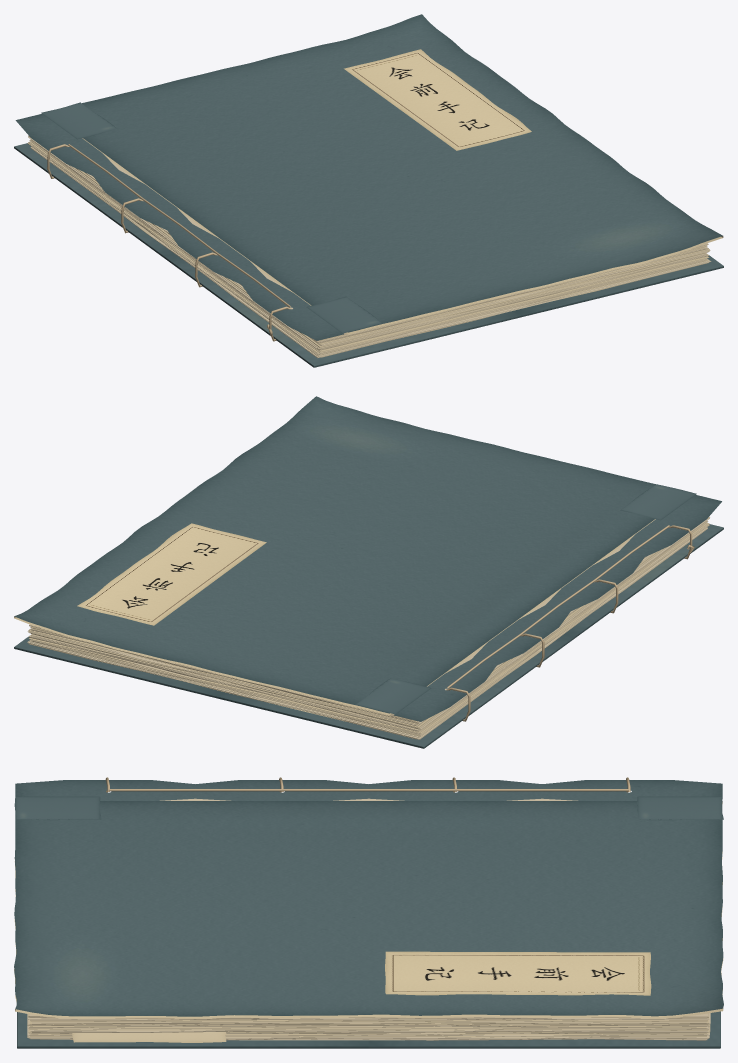
File: folio.glb
The picture shows the model from 3 angles, top to bottom: view 1: azimuth 30°, elevation 25°; view 2: azimuth 150°, elevation 25°; view 3: azimuth 270°, elevation 25°; orthographic projection. The views are drawn at different scales.
Visible parts, largest first — view 1: notebook-cover, 固定书脊 · 实穿针孔, 贴签 · 纸边, 底书衣, 纸叶外缘 · 3, 纸叶外缘 · 2, 纸叶外缘 · 1, 封面内衬, 封角补片.001, 封角补片, 穿线、过背与线结, 纸叶外缘 · 4; view 2: notebook-cover, 固定书脊 · 实穿针孔, 贴签 · 纸边, 底书衣, 纸叶外缘 · 3, 纸叶外缘 · 2, 纸叶外缘 · 1, 封角补片.001, 封角补片, 封面内衬, 穿线、过背与线结, 纸叶外缘 · 4; view 3: notebook-cover, 固定书脊 · 实穿针孔, 贴签 · 纸边, 纸叶外缘 · 3, 纸叶外缘 · 2, 底书衣, 纸叶外缘 · 1, 纸叶外缘 · 4, 封面内衬, 封角补片, 封角补片.001, 穿线、过背与线结 (+1 smaller).
Boxes of the visible parts, x1,y1,x2,y2 form: notebook-cover: (82,14,722,332); 固定书脊 · 实穿针孔: (15,114,343,340); 贴签 · 纸边: (344,49,531,150); 底书衣: (14,143,723,367); 纸叶外缘 · 3: (28,139,709,357); 纸叶外缘 · 2: (27,137,711,357); 纸叶外缘 · 1: (28,135,708,357); 封面内衬: (82,138,722,334); 封角补片.001: (306,296,381,333); 封角补片: (41,102,116,139); 穿线、过背与线结: (47,144,291,341); 纸叶外缘 · 4: (35,142,708,355); notebook-cover: (14,396,656,713); 固定书脊 · 实穿针孔: (394,495,721,721); 贴签 · 纸边: (77,523,266,625); 底书衣: (14,524,723,748); 纸叶外缘 · 3: (28,520,709,739); 纸叶外缘 · 2: (27,518,709,739); 纸叶外缘 · 1: (29,517,709,739); 封角补片.001: (620,484,696,520); 封角补片: (355,678,431,714); 封面内衬: (14,519,655,715); 穿线、过背与线结: (446,525,694,721); 纸叶外缘 · 4: (28,531,692,738); notebook-cover: (14,801,723,1016); 固定书脊 · 实穿针孔: (15,780,722,800); 贴签 · 纸边: (385,951,651,995); 纸叶外缘 · 3: (28,1014,709,1038); 纸叶外缘 · 2: (27,798,710,1040); 底书衣: (17,1011,720,1048); 纸叶外缘 · 1: (27,1013,710,1040); 纸叶外缘 · 4: (28,1016,708,1039); 封面内衬: (14,803,723,1019); 封角补片: (637,796,723,820); 封角补片.001: (14,796,101,820); 穿线、过背与线结: (105,777,630,792).
Bounding box in the file's own units: 0.3472 × 0.0271 × 0.4257.
11 materials, 5 textured.
